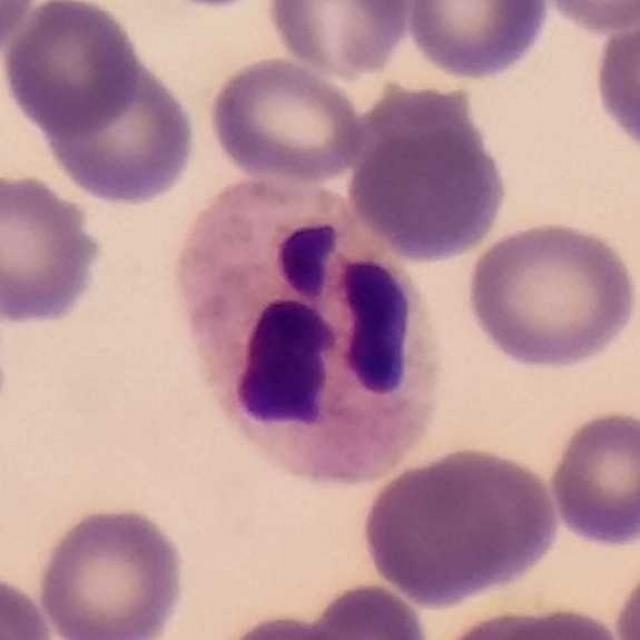Neutrophil: (163, 170, 457, 512)
RBC: (358, 441, 564, 609), (462, 216, 639, 374), (32, 52, 202, 208), (343, 110, 512, 264), (205, 53, 369, 186), (34, 501, 190, 640), (1, 0, 145, 139), (0, 168, 108, 328), (545, 405, 640, 552), (261, 0, 415, 82), (401, 0, 553, 83), (291, 579, 434, 640), (590, 3, 640, 165), (468, 602, 634, 640), (204, 607, 379, 640), (0, 566, 57, 640), (533, 0, 640, 35), (611, 548, 640, 640), (0, 0, 41, 62)
